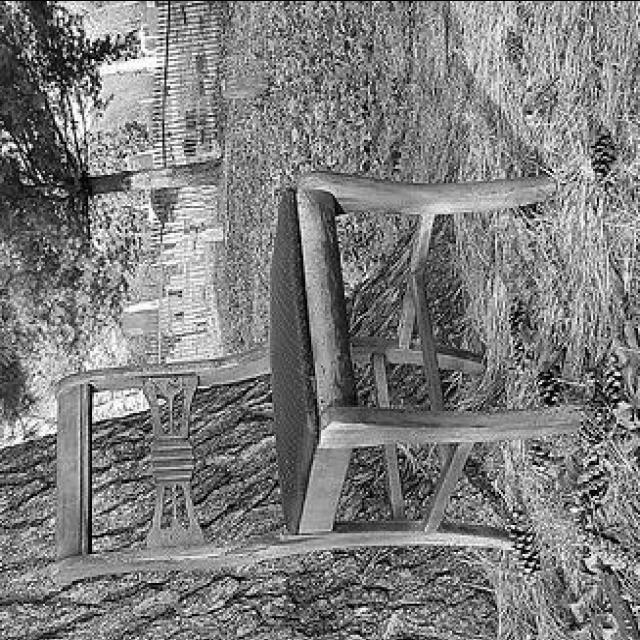chair: (46, 168, 572, 586)
